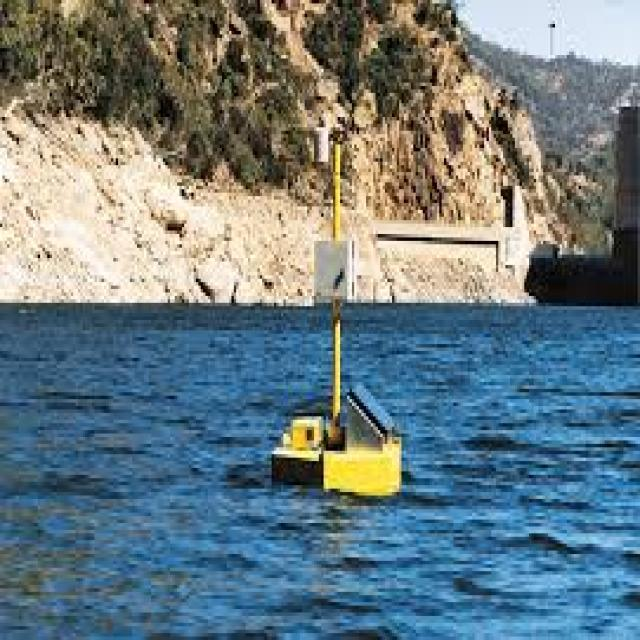marque: (256, 136, 422, 516)
